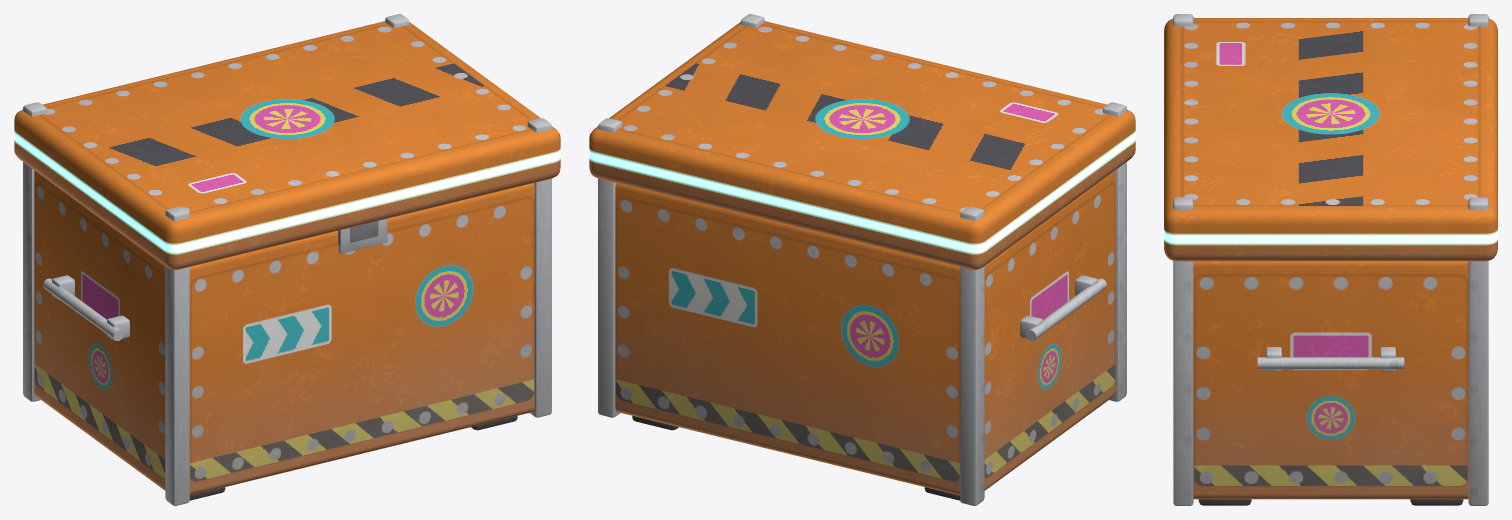
The model's file is pbr_crate.glb.
3 renders of one model, left to right at view 1: azimuth 30°, elevation 25°; view 2: azimuth 150°, elevation 25°; view 3: azimuth 270°, elevation 25°, orthographic. The views are drawn at different scales.
Parts seen in each view (by area): view 1: crate; view 2: crate; view 3: crate.
Boxes of the visible parts, x1,y1,x2,y2 form: crate: [14, 14, 560, 505]; crate: [589, 14, 1135, 505]; crate: [1164, 14, 1497, 505].
Bounding box in the file's own units: 1.23 × 0.85 × 0.82.
2 materials, 2 textured.
